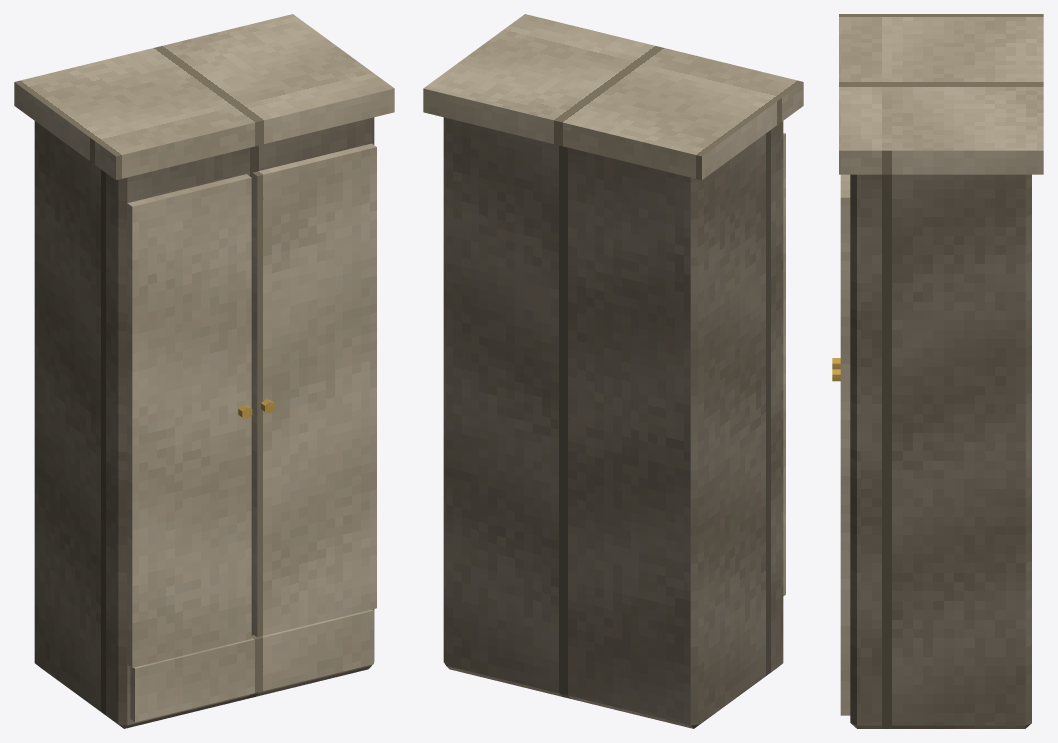
The model's file is wardrobe.glb.
3 renders of one model, left to right at view 1: azimuth 30°, elevation 25°; view 2: azimuth 150°, elevation 25°; view 3: azimuth 270°, elevation 25°, orthographic.
Parts seen in each view (by area): view 1: body; view 2: body; view 3: body.
Boxes of the visible parts, <box> form: body: <box>14,14,394,728</box>; body: <box>423,14,803,728</box>; body: <box>832,14,1043,728</box>.
Bounding box in the file's own units: 0.98 × 1.96 × 0.64.
3 materials, 3 textured.
